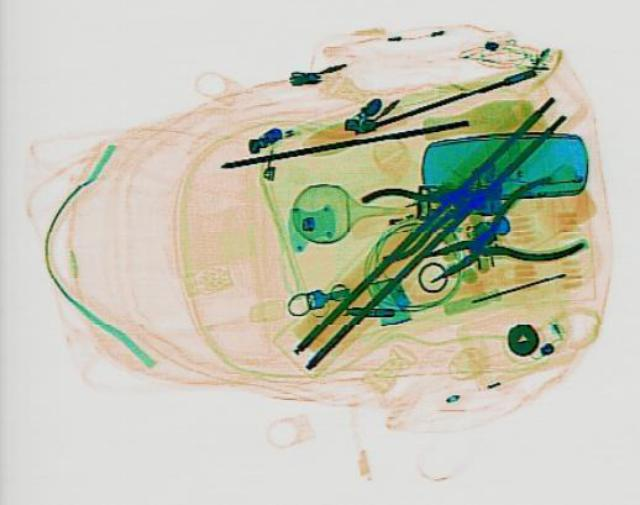Pliers: (391, 170, 599, 299), (346, 153, 528, 262)
